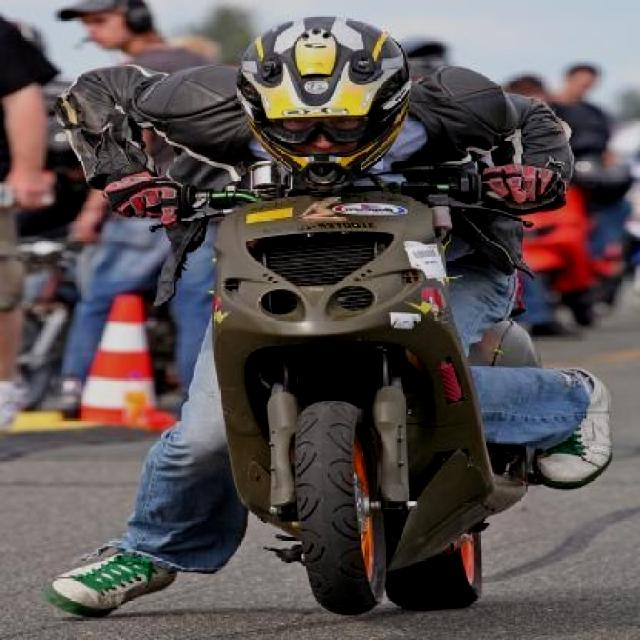Cycle: (132, 160, 568, 622)
